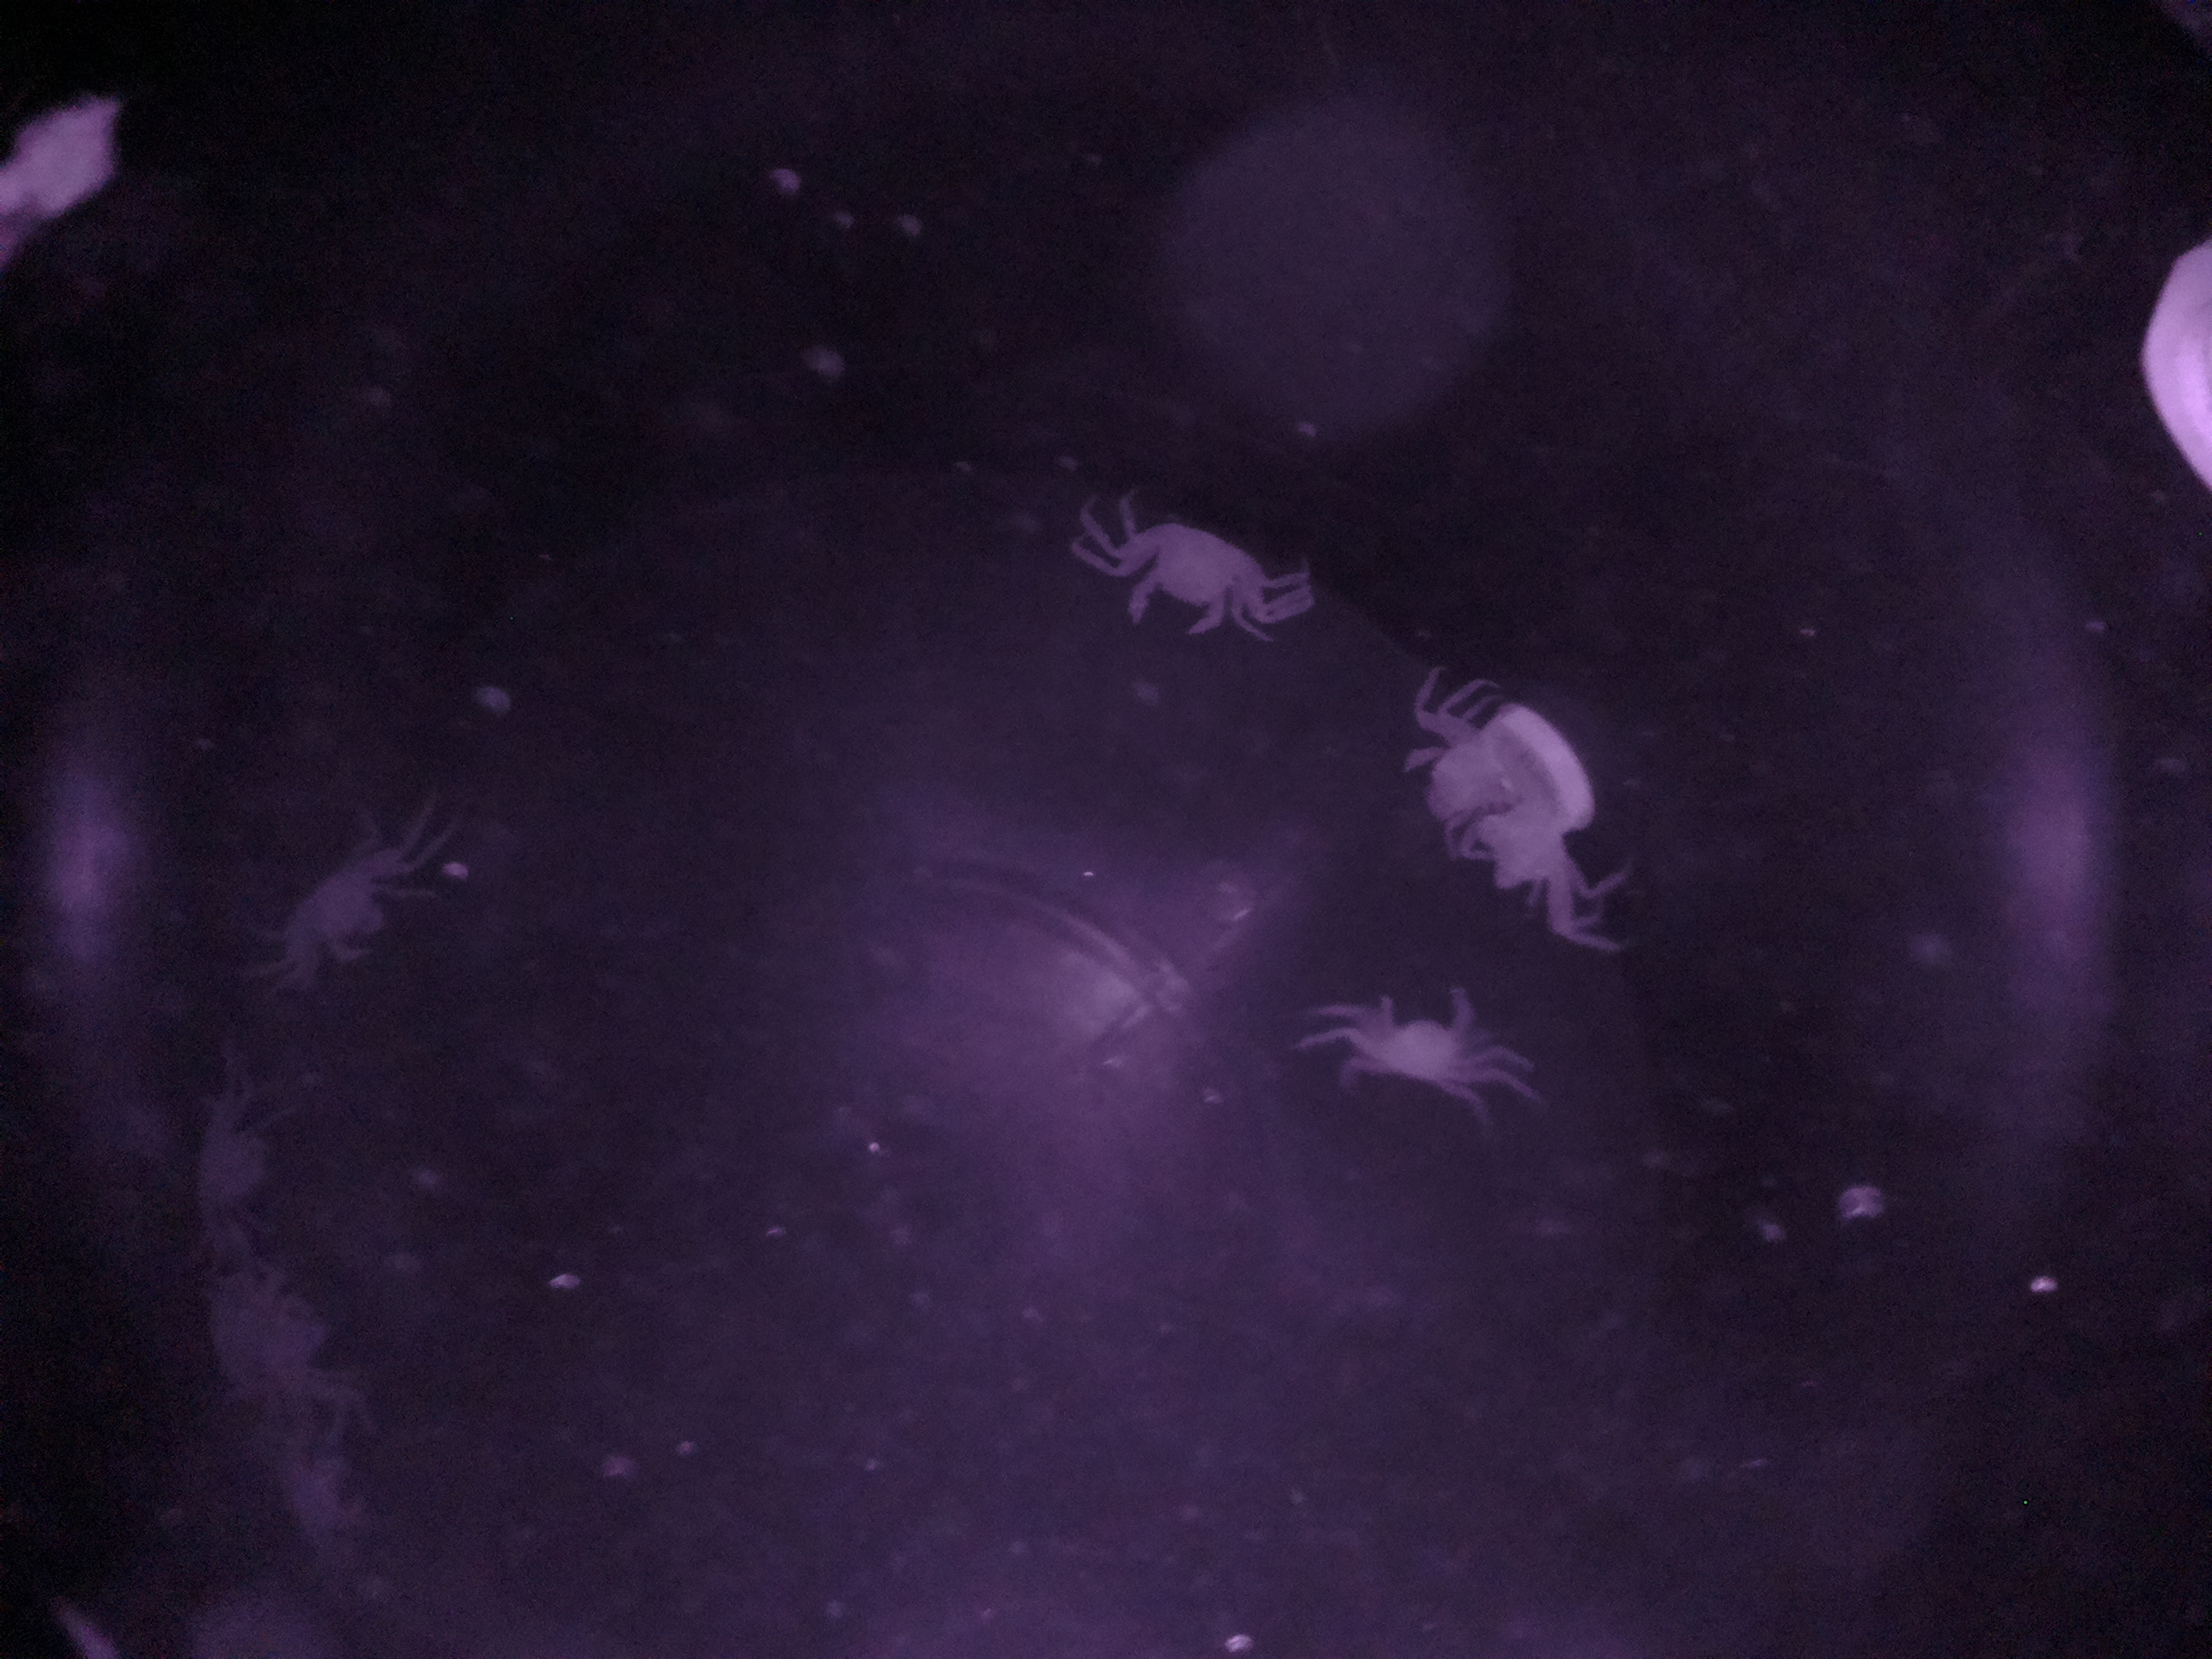Crab: (1106, 502, 1310, 664), (1299, 971, 1524, 1107), (256, 803, 418, 983)
